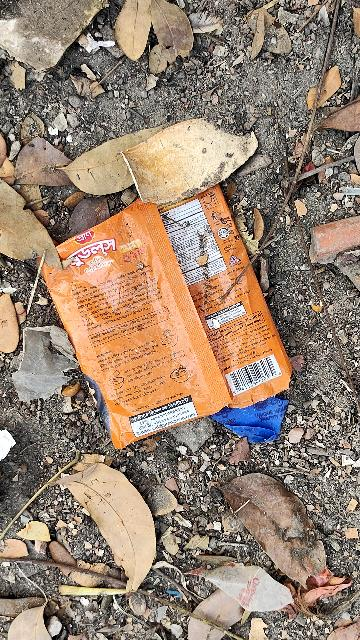packet: (29, 180, 299, 462)
